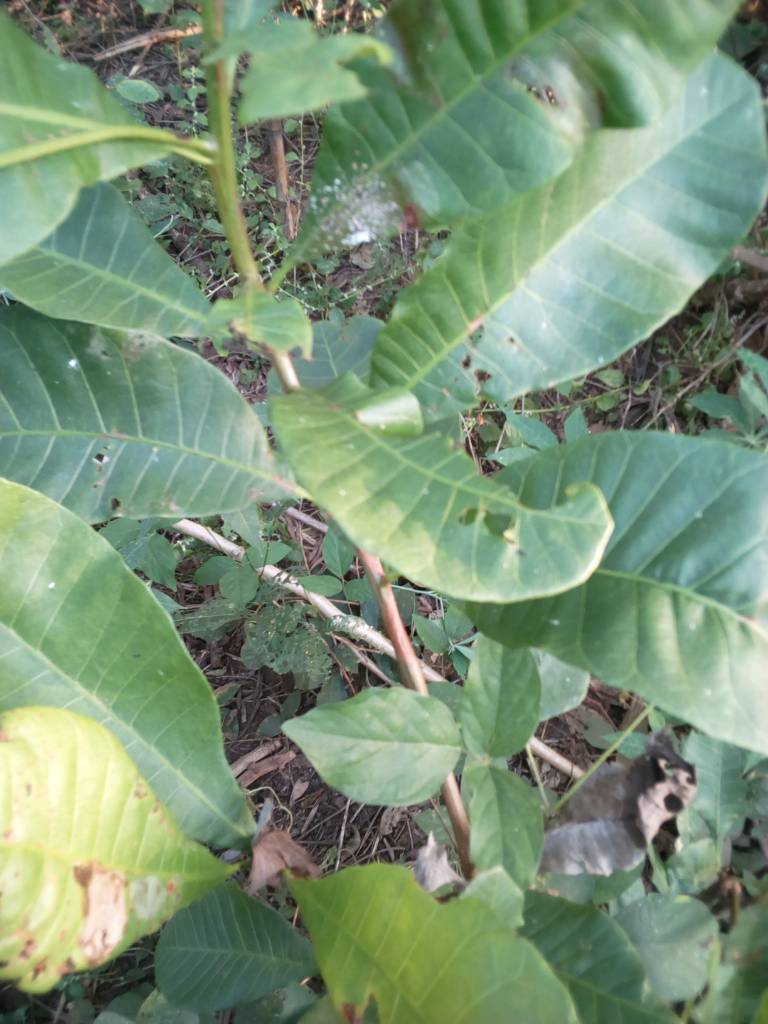Anoplonemis curvipes: (325, 32, 767, 439), (264, 351, 622, 608)
